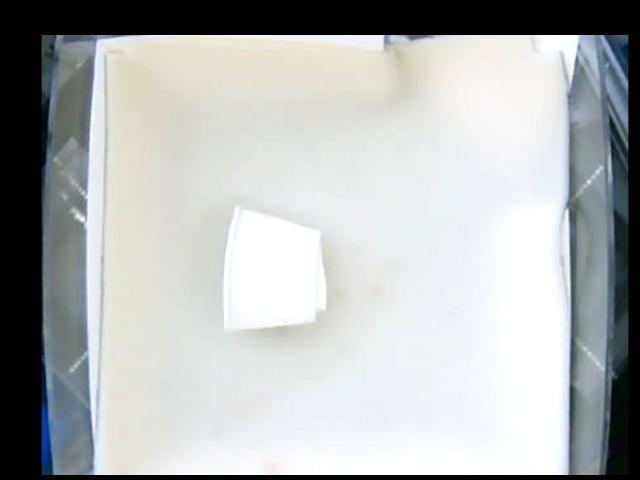Cup: (222, 205, 326, 333)
